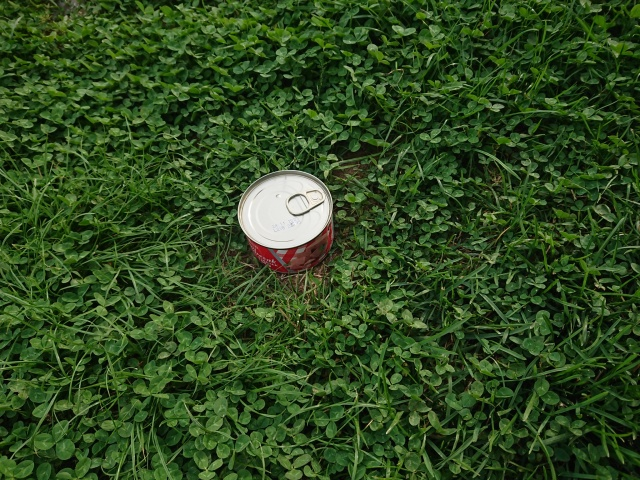Podravka Luncheon Meat 150g: (234, 168, 337, 277)
